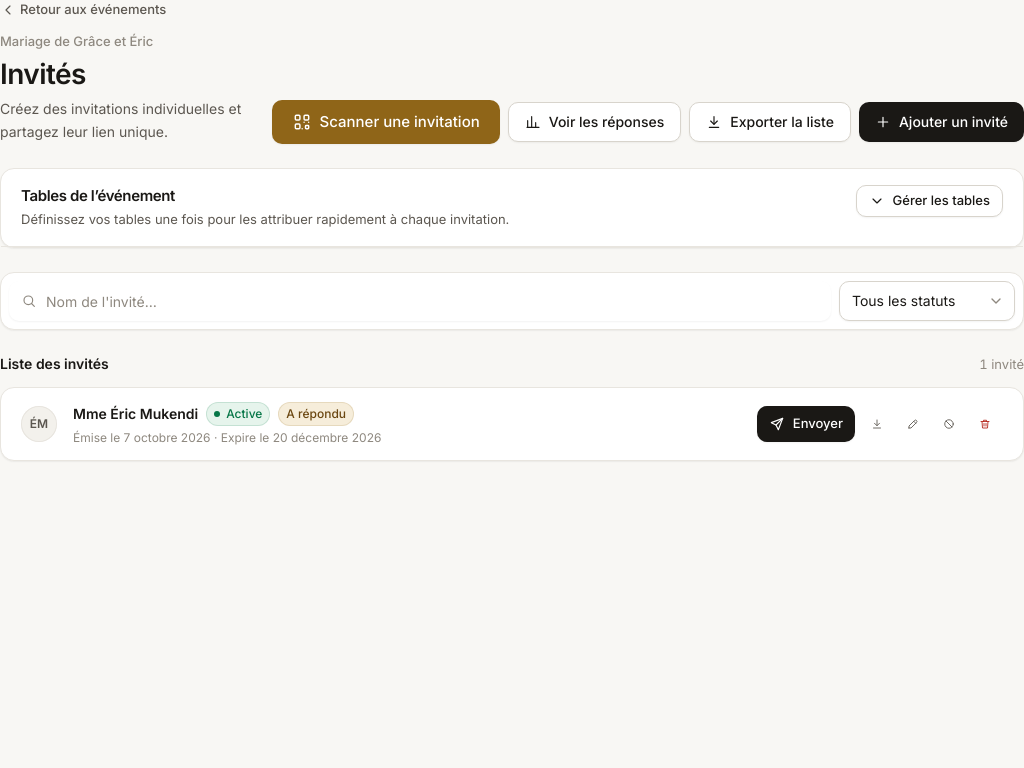
it: GuestsPage › revokes an invitation after confirmation
The width and height of the screenshot is (1024, 768).
Click the button named "Révoquer". click: (949, 424)
box: [931, 406, 967, 442]
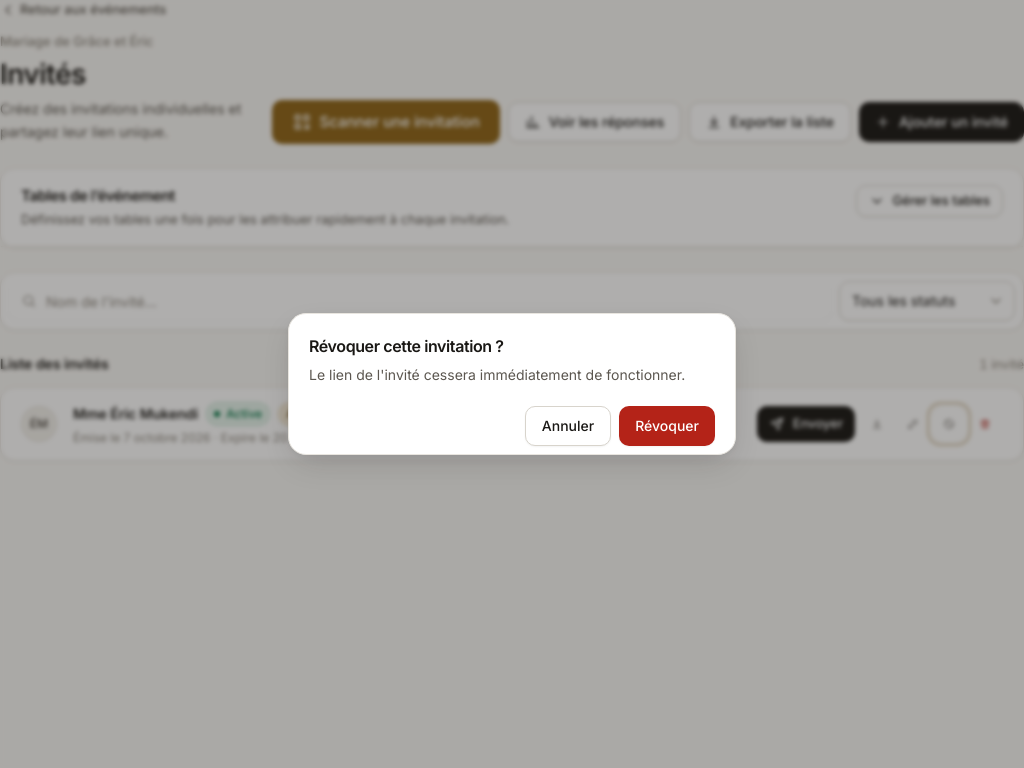
Expected: the dialog is shown, [288, 313, 736, 455]
Expected: the text "Le lien de l'invité cessera immédiatement de fonctionner." is shown, [309, 364, 715, 386]
Click the button "Révoquer". click: (667, 426)
box: [619, 406, 715, 446]
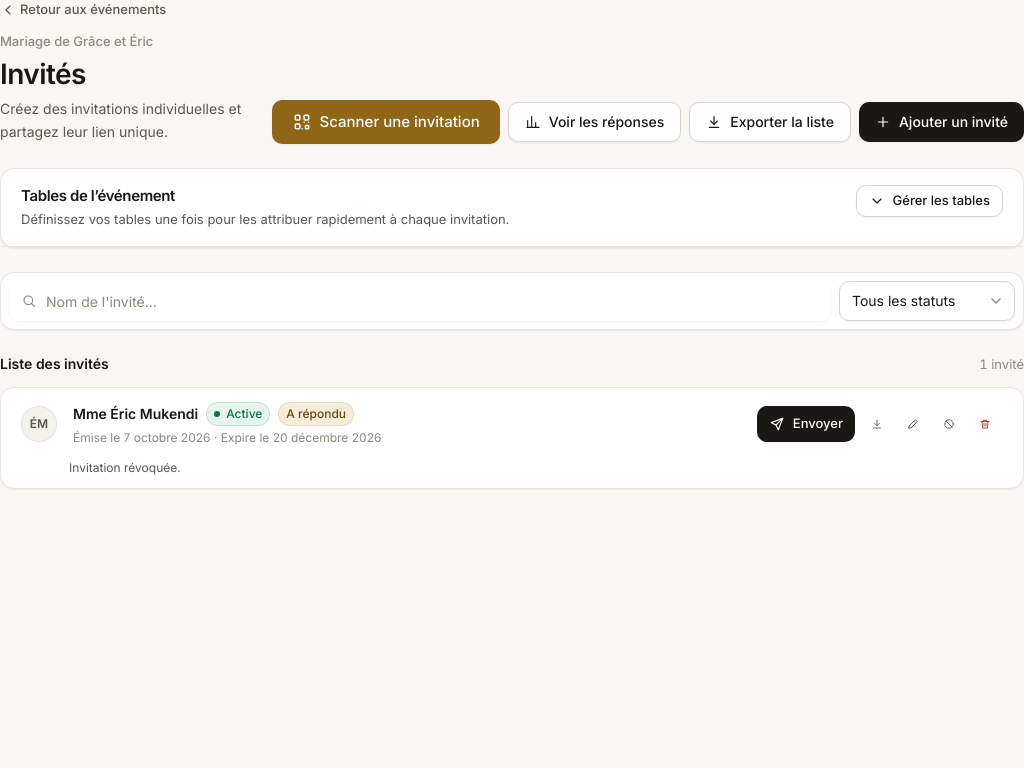
Expected: the text "Invitation révoquée." is shown, [69, 460, 181, 475]
